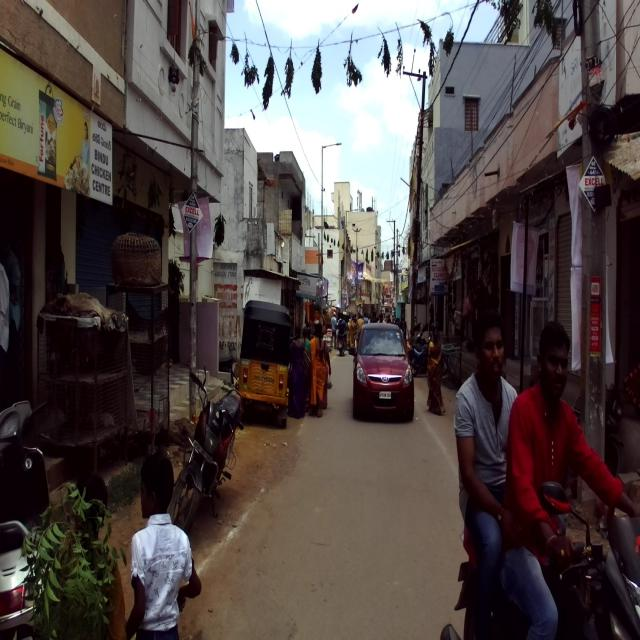Car_Hyundai: (348, 321, 415, 421)
autorickshaw: (237, 298, 294, 427)
motorcycle_Hero: (168, 364, 245, 536)
motorcycle_HeroHonda: (440, 480, 640, 640)
scooter: (0, 397, 53, 639)
